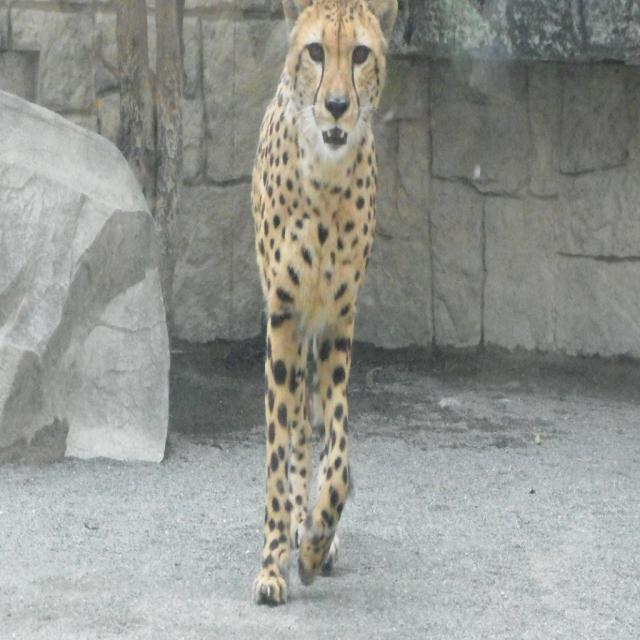Cheetah: (251, 0, 398, 600)
